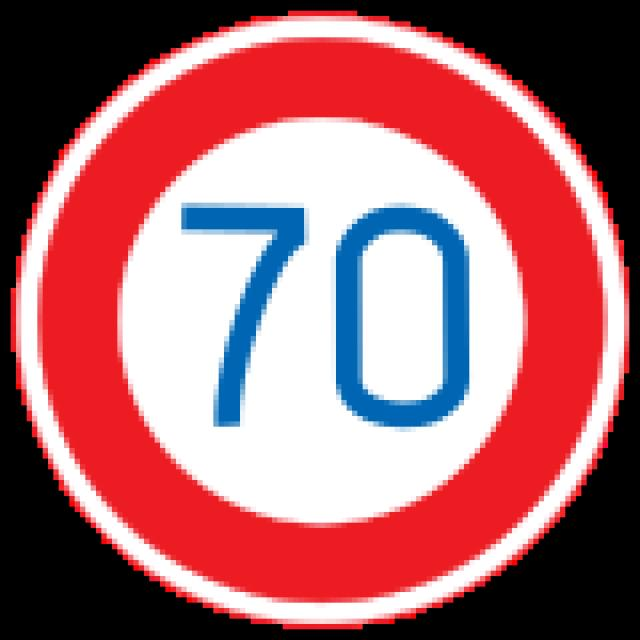Speed Limit -70-: (157, 175, 494, 452)
